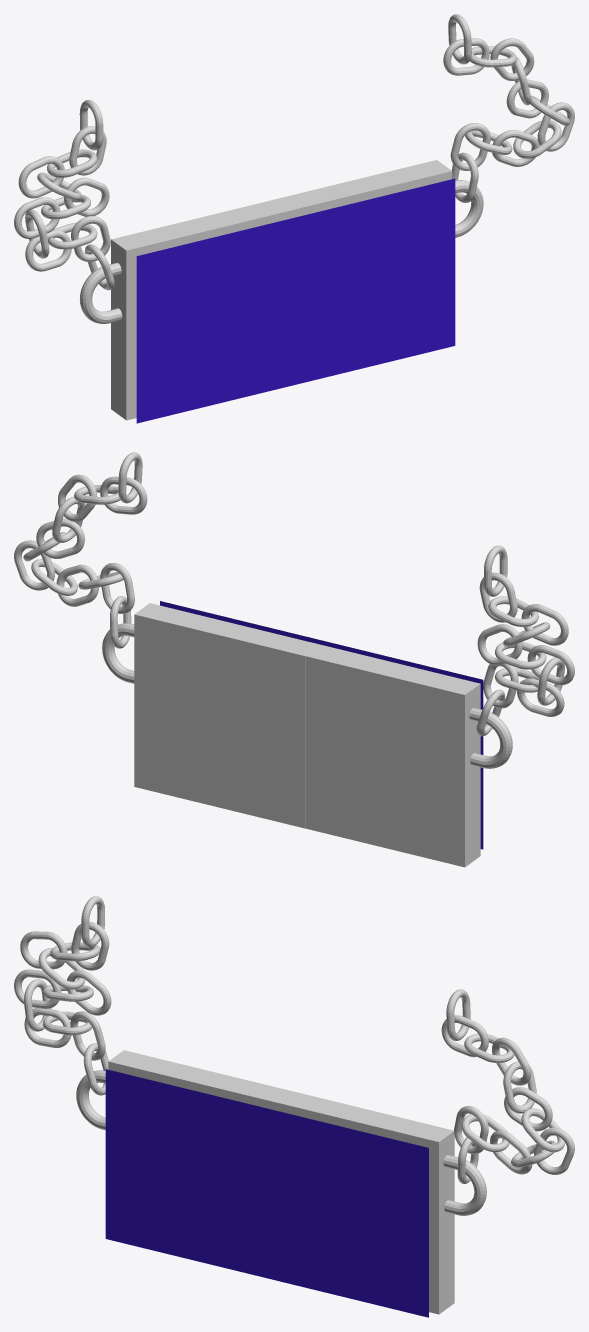
Rendered from MenuChainBlocks.fbx.
3 renders of one model, top to bottom at view 1: azimuth 30°, elevation 25°; view 2: azimuth 150°, elevation 25°; view 3: azimuth 330°, elevation 25°, orthographic.
Parts seen in each view (by area): view 1: TextSign, Board.001, Board, Chain.025, Chain.033, Chain.034, Chain.029, Chain.014, Chain.026, Chain.017, Chain.019, Chain.018 (+15 smaller); view 2: Board.001, Board, TextSign, Chain.018, Chain.014, Chain.021, Chain.034, Chain.025, Chain.033, Chain.030, Chain.029, Chain.022 (+14 smaller); view 3: TextSign, Board, Board.001, Chain.034, Chain.018, Chain.037, Chain.030, Chain.021, Chain.029, Chain.013, Chain.026, Chain.038 (+16 smaller).
Boxes of the visible parts, x1=… form: TextSign: x1=136, y1=178, x2=455, y2=423; Board.001: x1=80, y1=201, x2=295, y2=420; Board: x1=268, y1=160, x2=483, y2=237; Chain.025: x1=450, y1=123, x2=490, y2=170; Chain.033: x1=14, y1=197, x2=60, y2=238; Chain.034: x1=18, y1=156, x2=64, y2=198; Chain.029: x1=25, y1=230, x2=71, y2=271; Chain.014: x1=443, y1=38, x2=489, y2=75; Chain.026: x1=71, y1=216, x2=110, y2=261; Chain.017: x1=490, y1=38, x2=534, y2=80; Chain.019: x1=513, y1=120, x2=561, y2=158; Chain.018: x1=537, y1=102, x2=574, y2=151; Board.001: x1=304, y1=642, x2=512, y2=867; Board: x1=102, y1=603, x2=315, y2=828; TextSign: x1=160, y1=601, x2=483, y2=849; Chain.018: x1=14, y1=540, x2=54, y2=590; Chain.014: x1=100, y1=476, x2=147, y2=514; Chain.021: x1=36, y1=518, x2=84, y2=558; Chain.034: x1=521, y1=604, x2=568, y2=645; Chain.025: x1=100, y1=563, x2=134, y2=613; Chain.033: x1=527, y1=645, x2=574, y2=685; Chain.030: x1=477, y1=624, x2=522, y2=665; Chain.029: x1=517, y1=678, x2=564, y2=716; Chain.022: x1=56, y1=564, x2=98, y2=606; TextSign: x1=105, y1=1069, x2=428, y2=1317; Board: x1=276, y1=1089, x2=486, y2=1314; Board.001: x1=76, y1=1050, x2=286, y2=1130; Chain.034: x1=20, y1=931, x2=67, y2=969; Chain.018: x1=534, y1=1127, x2=574, y2=1174; Chain.037: x1=71, y1=922, x2=109, y2=970; Chain.030: x1=67, y1=970, x2=111, y2=1015; Chain.021: x1=504, y1=1087, x2=552, y2=1131; Chain.029: x1=24, y1=1008, x2=71, y2=1047; Chain.013: x1=446, y1=989, x2=470, y2=1040; Chain.026: x1=70, y1=1011, x2=105, y2=1060; Chain.038: x1=81, y1=896, x2=104, y2=947.
Size of the model in its own units: 4174 by 2282 by 356.
